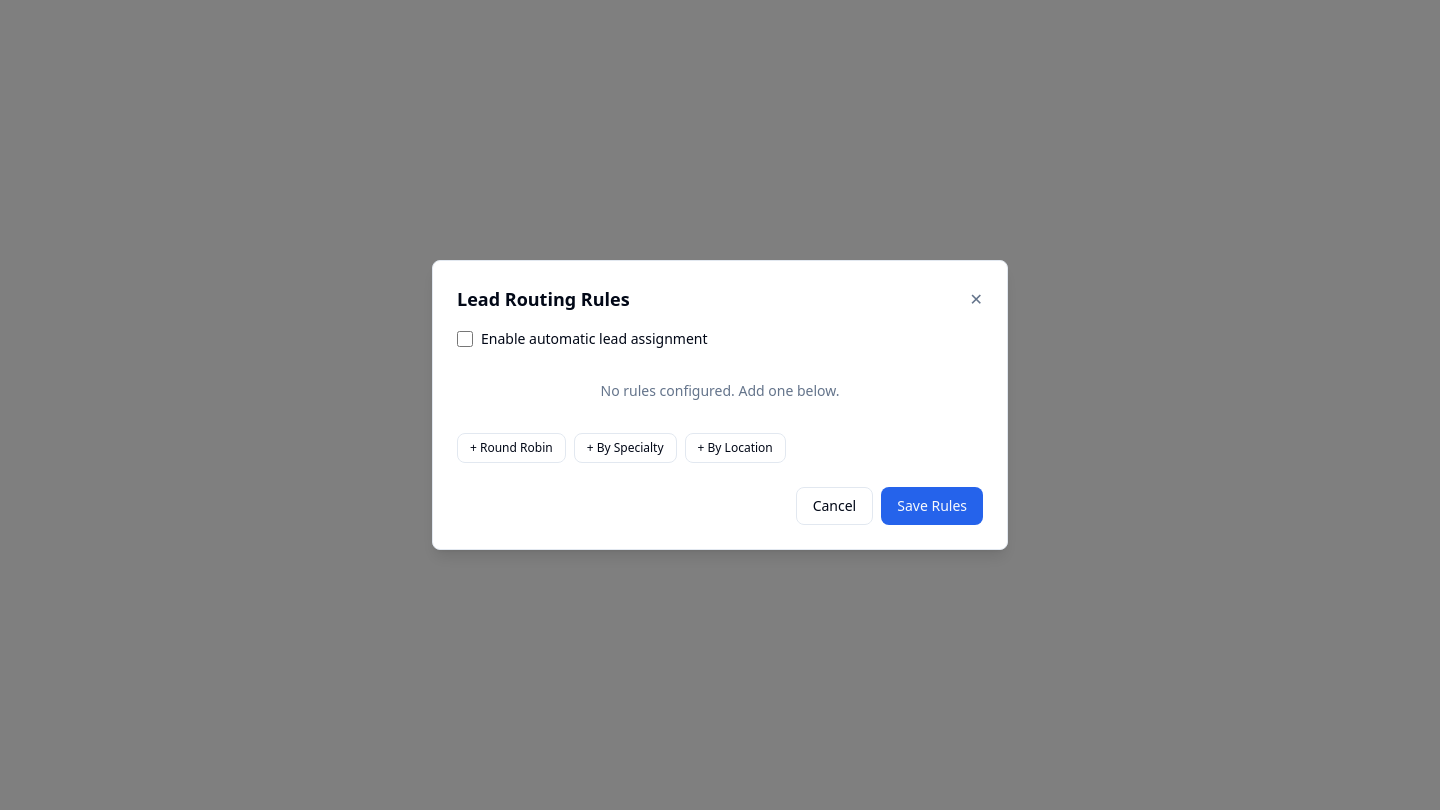
Test: LeadRoutingRules › adds a location rule when button is clicked
Click the button "+ By Location" at (735, 448), box [685,433,786,463]
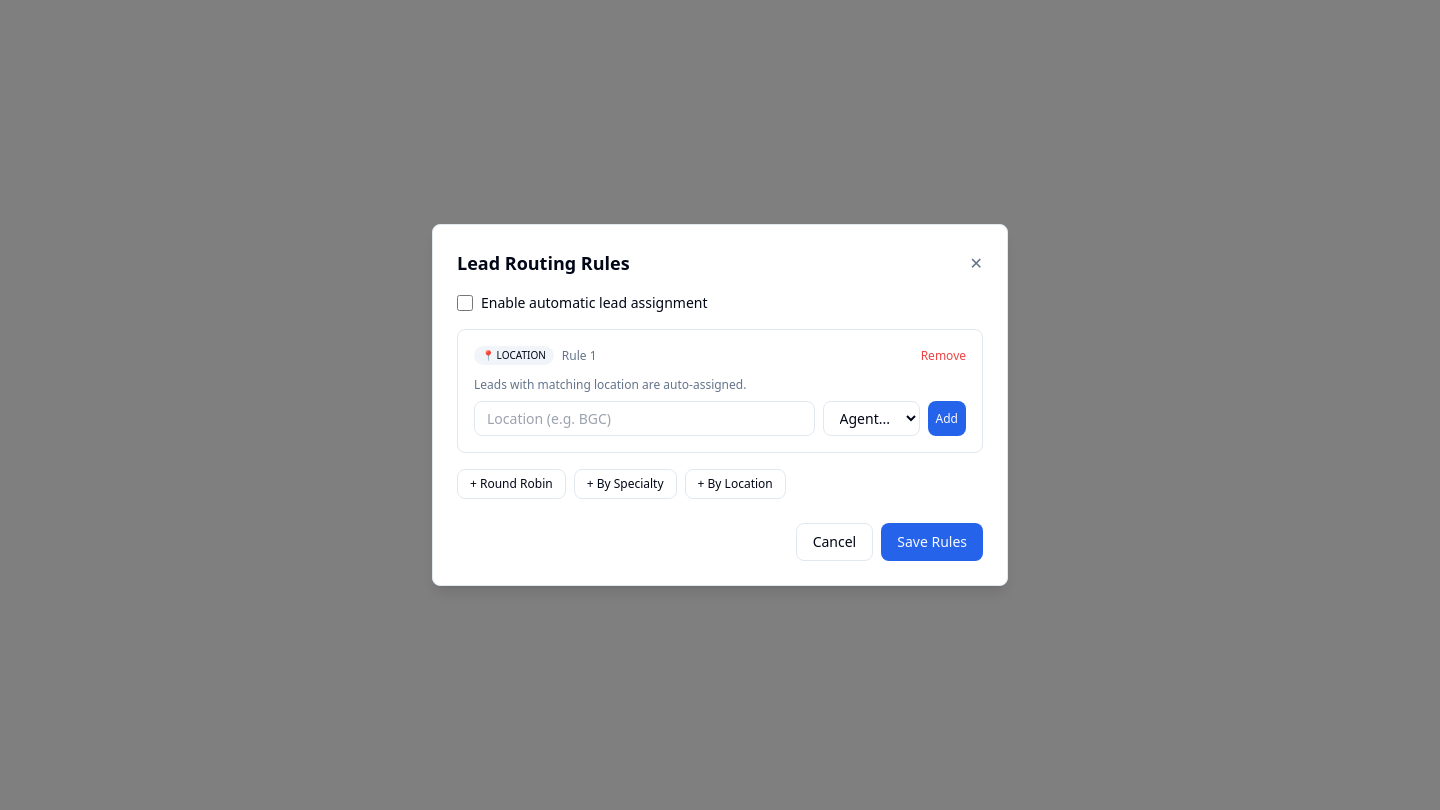
Check: the text "📍 Location" is shown, box [474,346,554,365]
Check: the text "Leads with matching location are auto-assigned." is shown, box [474,376,746,393]
